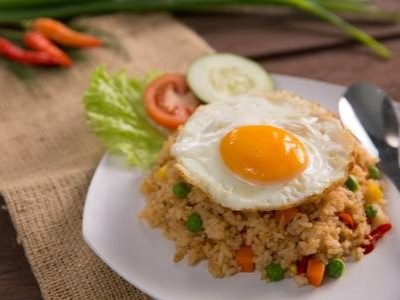nasigoreng: (150, 91, 384, 280)
